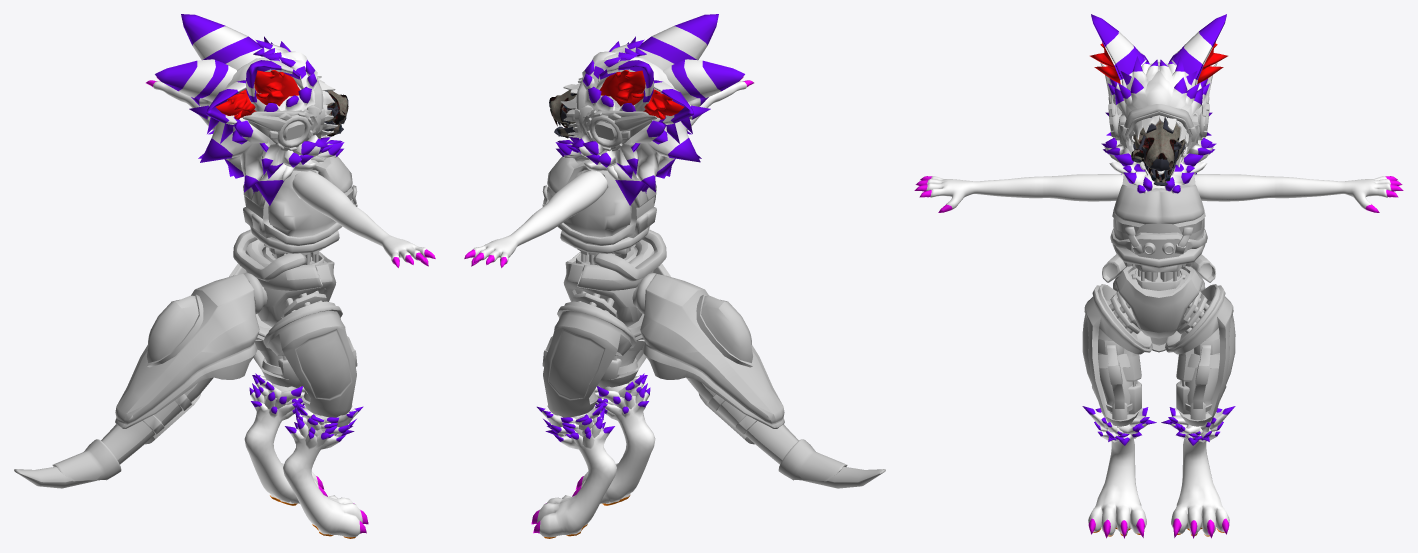
The model's file is SK_Corruption_TP.fbx.
3 views of the same model, side by side, from view 1: azimuth 30°, elevation 25°; view 2: azimuth 150°, elevation 25°; view 3: azimuth 270°, elevation 25° (orthographic). The views are drawn at different scales.
Parts seen in each view (by area): view 1: CorruptionTail, Circle, Head_Mesh, CorruptionChestMesh.002, Corruption_hipsMesh, R_Arm_Mesh, Right_lowerleg_mesh, Left_lowerleg_mesh, L_Ear_M_1, L_E_E_M_1, R_Ear_M_1, H_C_M_1 (+6 smaller); view 2: CorruptionTail, Circle, Head_Mesh, CorruptionChestMesh.002, Corruption_hipsMesh, L_Arm_Mesh, Left_lowerleg_mesh, Right_lowerleg_mesh, R_Ear_M_1, R_E_EMC_1, L_Ear_M_1, H_C_M_1 (+7 smaller); view 3: Circle, CorruptionChestMesh.002, Head_Mesh, Corruption_hipsMesh, L_Arm_Mesh, R_Arm_Mesh, Right_lowerleg_mesh, Left_lowerleg_mesh, L_Ear_M_1, R_Ear_M_1, H_C_M_1, Skull_top.001 (+5 smaller).
Boxes of the visible parts, x1,y1,x2,y2 form: CorruptionTail: (14, 274, 259, 488); Circle: (229, 263, 357, 417); Head_Mesh: (189, 36, 344, 205); CorruptionChestMesh.002: (243, 156, 357, 253); Corruption_hipsMesh: (233, 229, 336, 327); R_Arm_Mesh: (292, 170, 435, 267); Right_lowerleg_mesh: (283, 413, 368, 537); Left_lowerleg_mesh: (244, 383, 327, 503); L_Ear_M_1: (181, 14, 264, 70); L_E_E_M_1: (155, 59, 236, 101); R_Ear_M_1: (246, 60, 303, 111); H_C_M_1: (242, 78, 325, 151); CorruptionTail: (640, 274, 885, 488); Circle: (542, 263, 670, 417); Head_Mesh: (555, 36, 710, 205); CorruptionChestMesh.002: (542, 156, 656, 253); Corruption_hipsMesh: (563, 229, 666, 327); L_Arm_Mesh: (464, 170, 607, 267); Left_lowerleg_mesh: (531, 413, 616, 537); Right_lowerleg_mesh: (572, 383, 655, 503); R_Ear_M_1: (636, 14, 718, 70); R_E_EMC_1: (663, 59, 744, 101); L_Ear_M_1: (596, 60, 653, 111); H_C_M_1: (574, 78, 657, 151); Circle: (1082, 284, 1235, 426); CorruptionChestMesh.002: (1110, 174, 1207, 268); Head_Mesh: (1101, 56, 1216, 193); Corruption_hipsMesh: (1102, 254, 1215, 338); L_Arm_Mesh: (1194, 174, 1403, 212); R_Arm_Mesh: (914, 174, 1123, 212); Right_lowerleg_mesh: (1088, 438, 1146, 538); Left_lowerleg_mesh: (1171, 438, 1229, 538); L_Ear_M_1: (1171, 14, 1227, 87); R_Ear_M_1: (1090, 14, 1146, 87); H_C_M_1: (1100, 63, 1217, 149); Skull_top.001: (1133, 119, 1185, 175).
Bounding box in the file's own units: 106 × 141 × 151.
